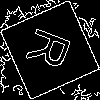R: (25, 25, 81, 76)
